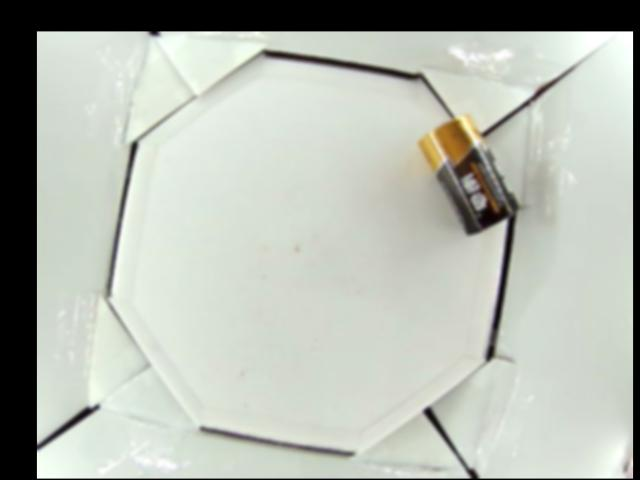Battery: (416, 118, 523, 232)
